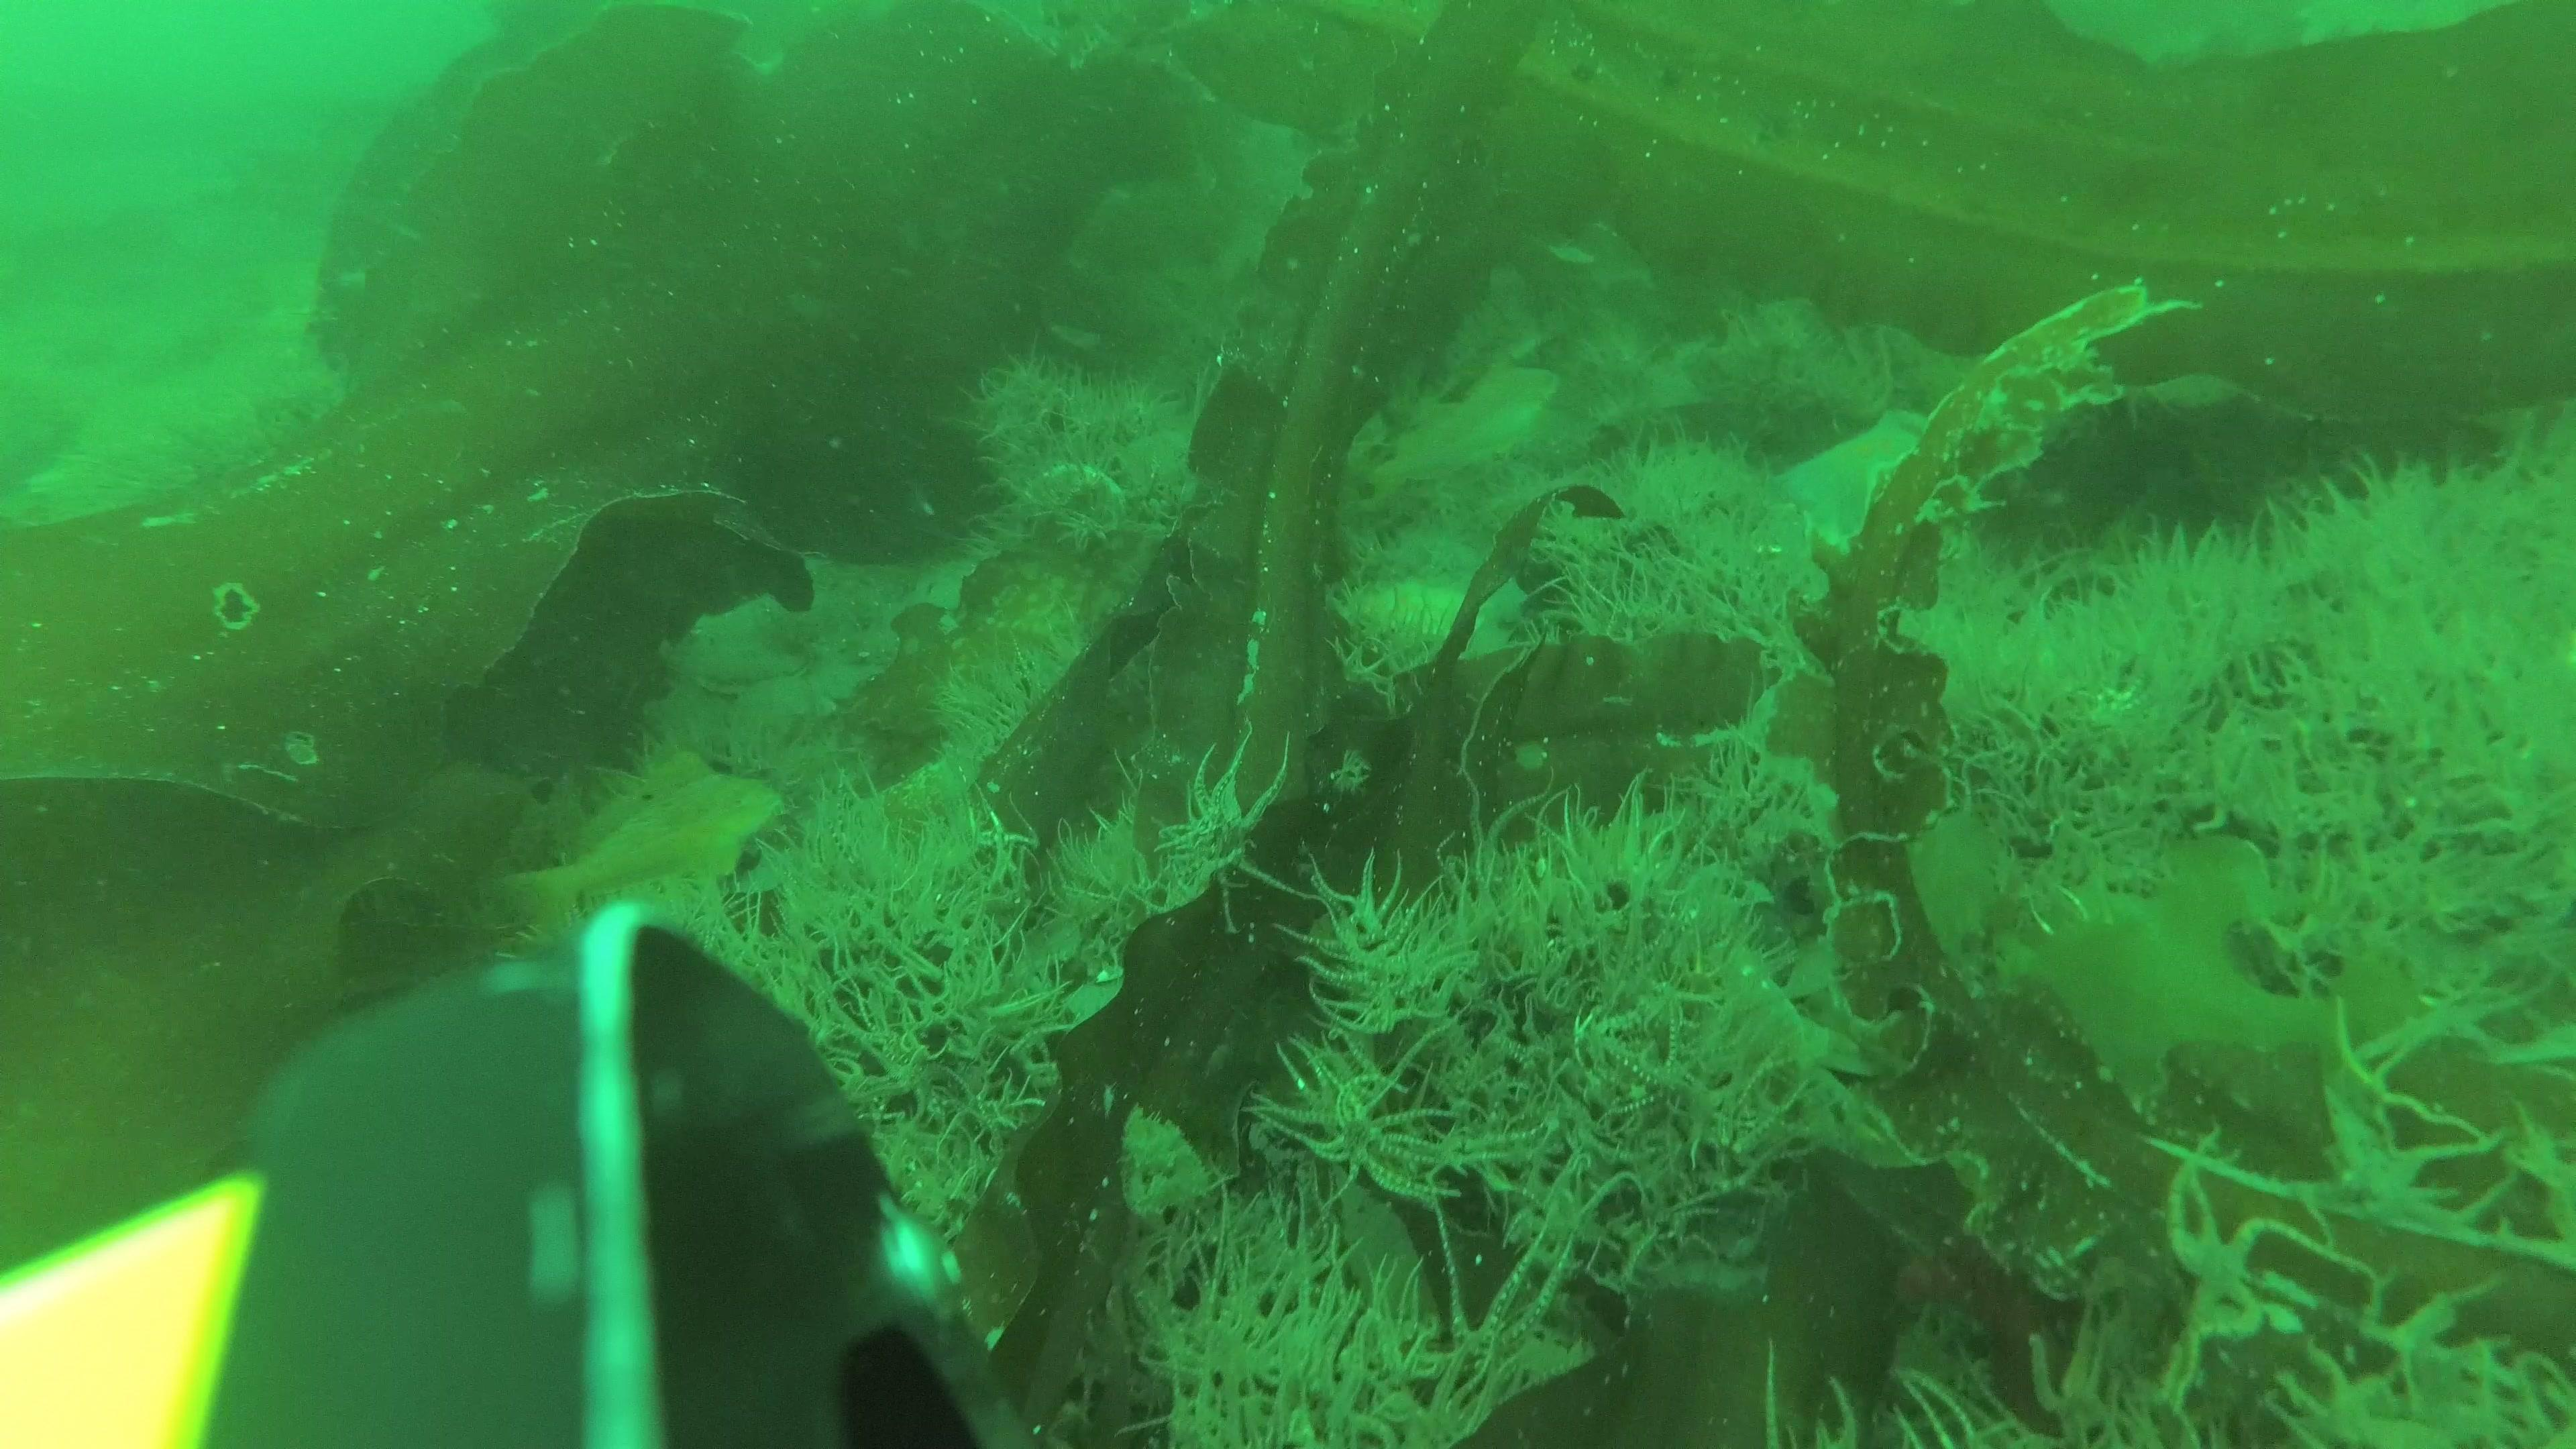starfish: (1785, 407, 1964, 536)
